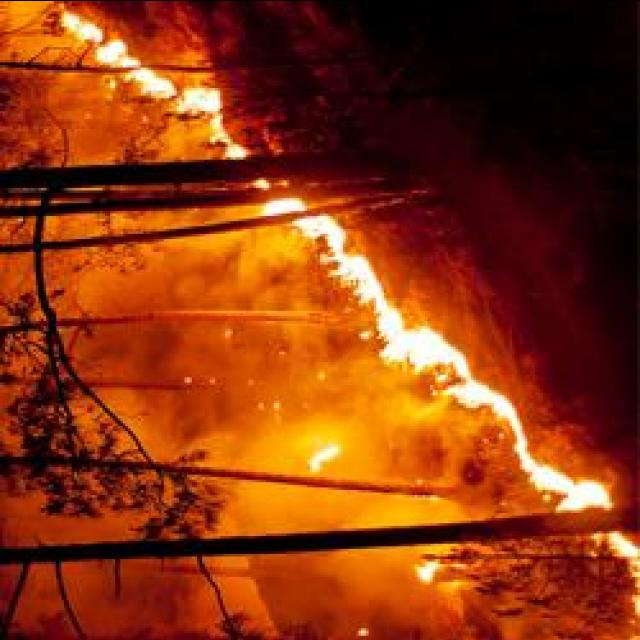fire: (598, 493, 638, 580), (516, 448, 564, 504), (266, 181, 314, 237), (99, 27, 137, 96), (340, 243, 370, 311), (184, 80, 232, 122), (456, 374, 492, 425), (408, 320, 441, 360), (417, 554, 451, 592)
smoke: (146, 272, 282, 428), (94, 465, 221, 607), (51, 136, 156, 274)
